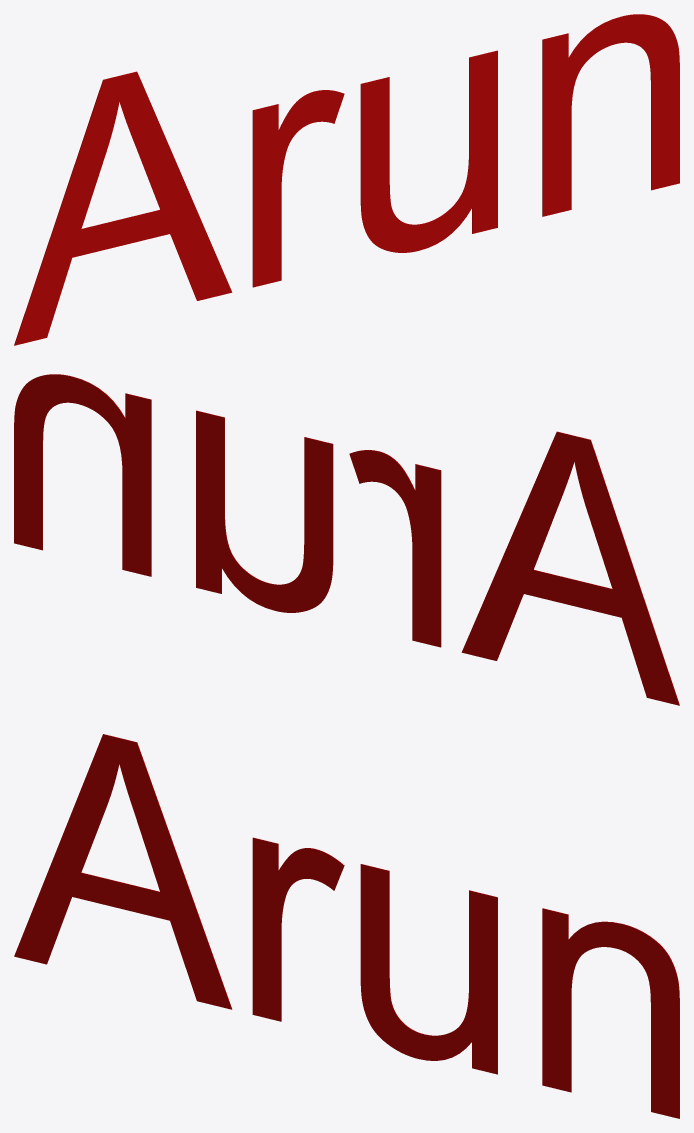
File: samples.glb
3 renders of one model, top to bottom at view 1: azimuth 30°, elevation 25°; view 2: azimuth 150°, elevation 25°; view 3: azimuth 330°, elevation 25°, orthographic.
Parts seen in each view (by area): view 1: Text001; view 2: Text001; view 3: Text001.
Boxes of the visible parts, x1,y1,x2,y2 form: Text001: (14,14,679,345); Text001: (14,374,679,705); Text001: (14,734,679,1118).
Bounding box in the file's own units: 1.82 × 0.647 × 0.00191.
